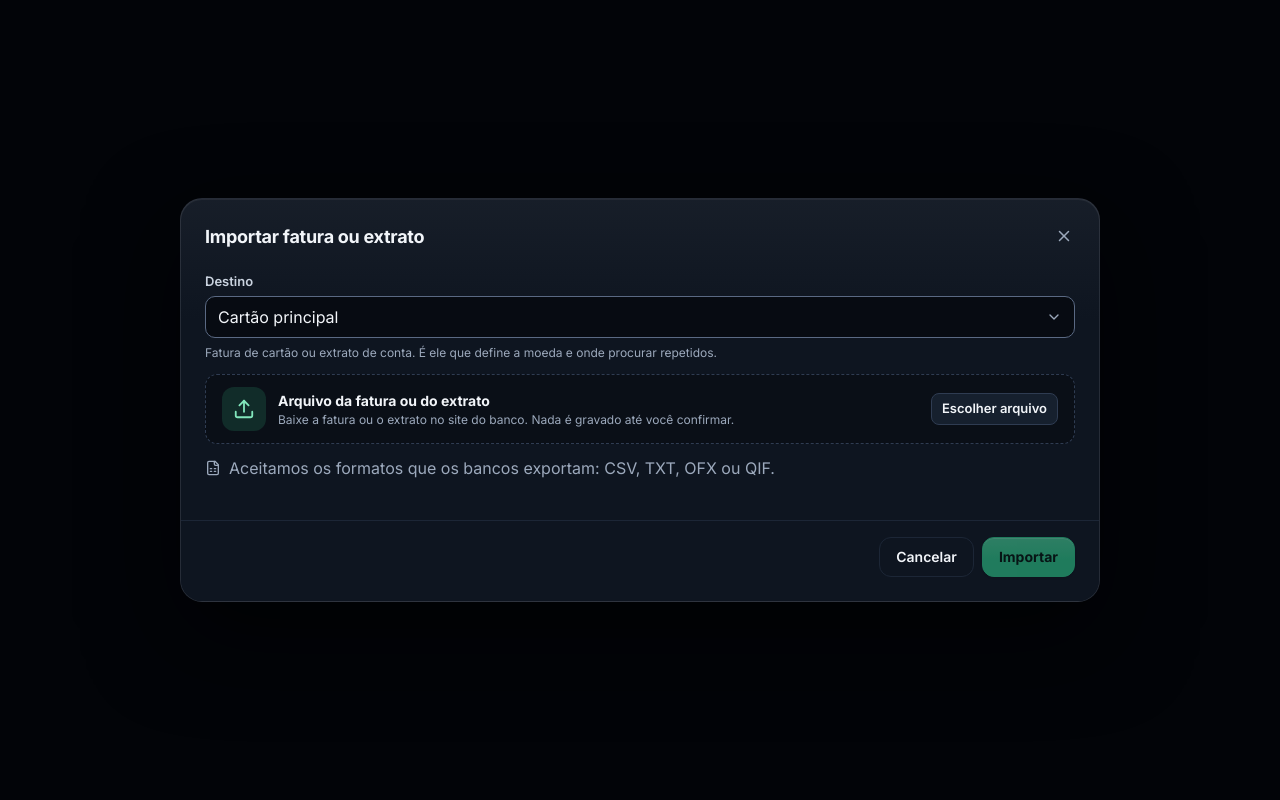
Test: importar fatura › oferece cartões e contas como destino
Click the dropdown named "Destino" at (278, 317), box [205,296,1075,338]
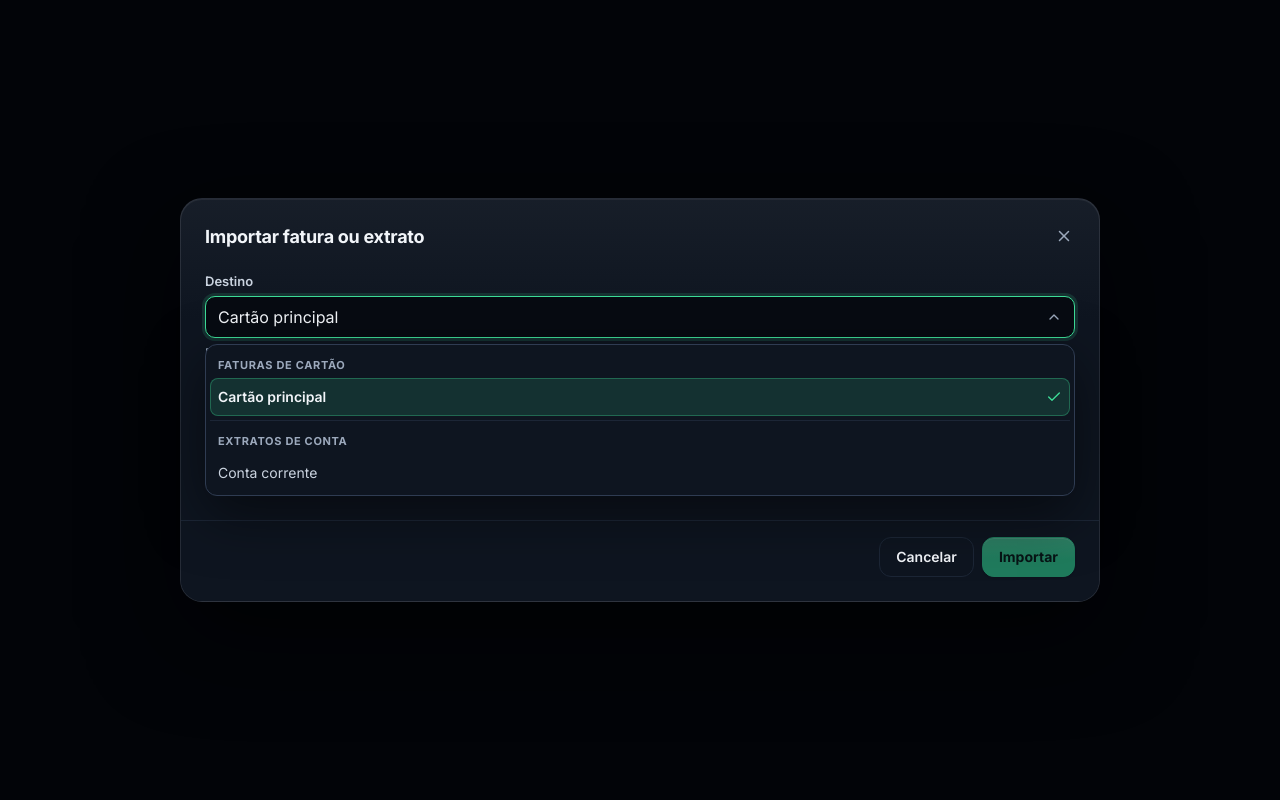
Result: the options read "Cartão principal", "Conta corrente", in this order at [210,378,1070,416]; [218,464,317,480]
